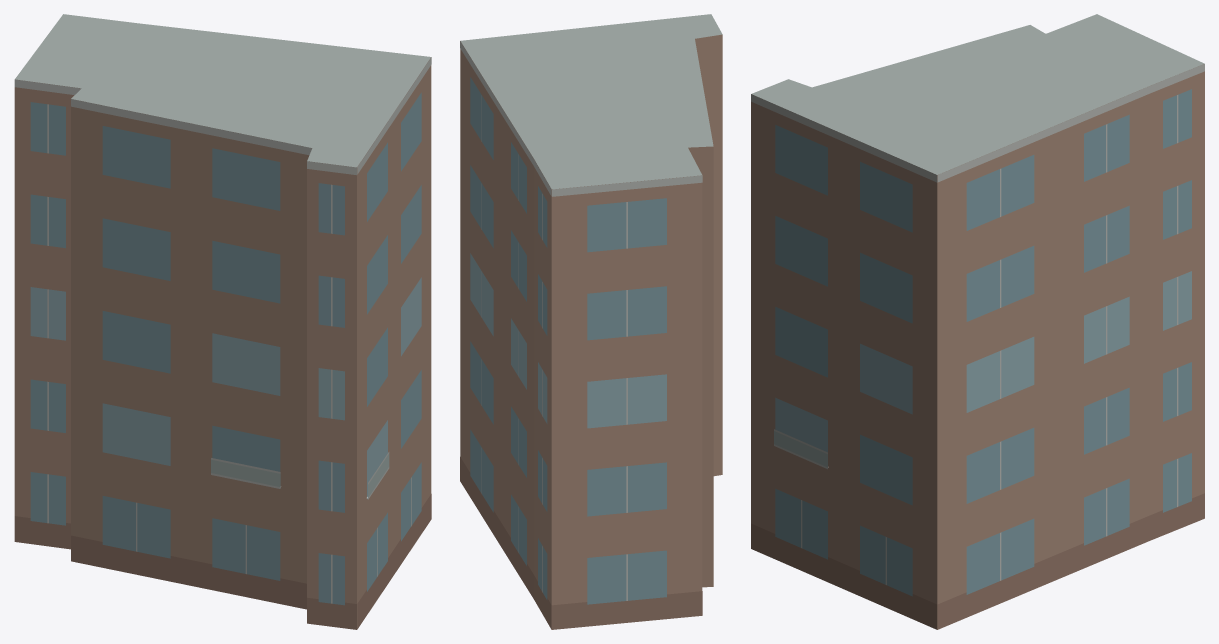
The model's file is survey-upis-32989319.glb.
3 renders of one model, left to right at view 1: azimuth 30°, elevation 25°; view 2: azimuth 150°, elevation 25°; view 3: azimuth 270°, elevation 25°, orthographic. The views are drawn at different scales.
Visible parts, largest first — view 1: survey-upis-32989319.tmp; view 2: survey-upis-32989319.tmp; view 3: survey-upis-32989319.tmp.
Boxes of the visible parts, <box> form: survey-upis-32989319.tmp: <box>14,14,431,629</box>; survey-upis-32989319.tmp: <box>460,14,722,629</box>; survey-upis-32989319.tmp: <box>751,14,1204,629</box>.
Size of the model in its own units: 11.02 by 14.5 by 13.12.
